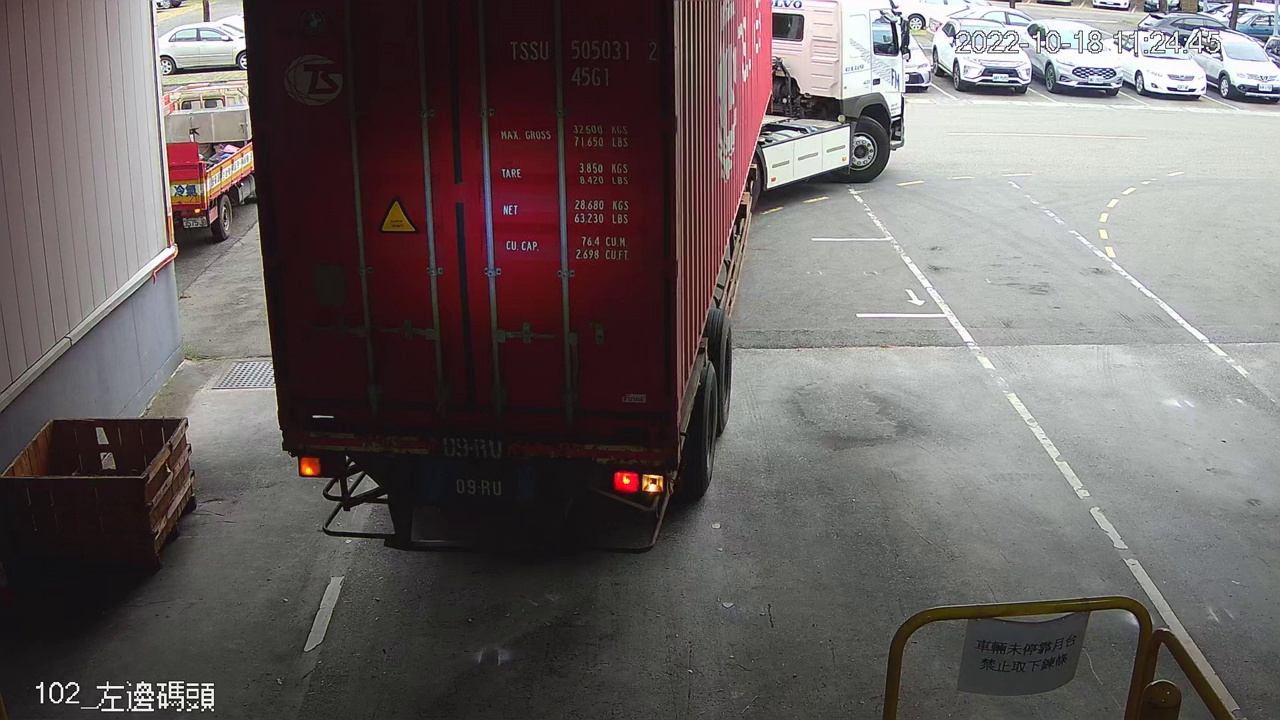container: (499, 29, 669, 92)
